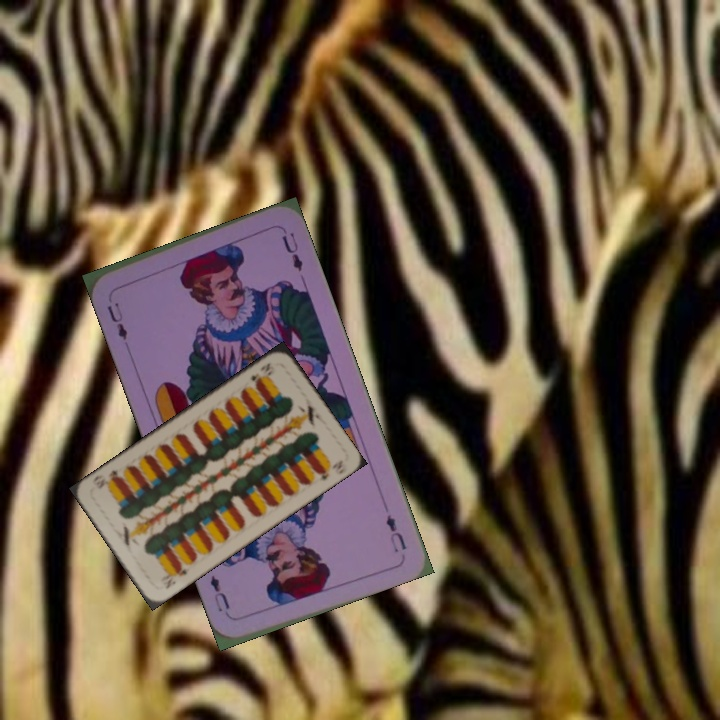E10: (161, 562, 191, 592), (247, 359, 277, 387)
EU: (382, 510, 410, 555), (103, 298, 130, 343)
